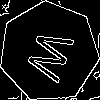W: (24, 26, 84, 87)
